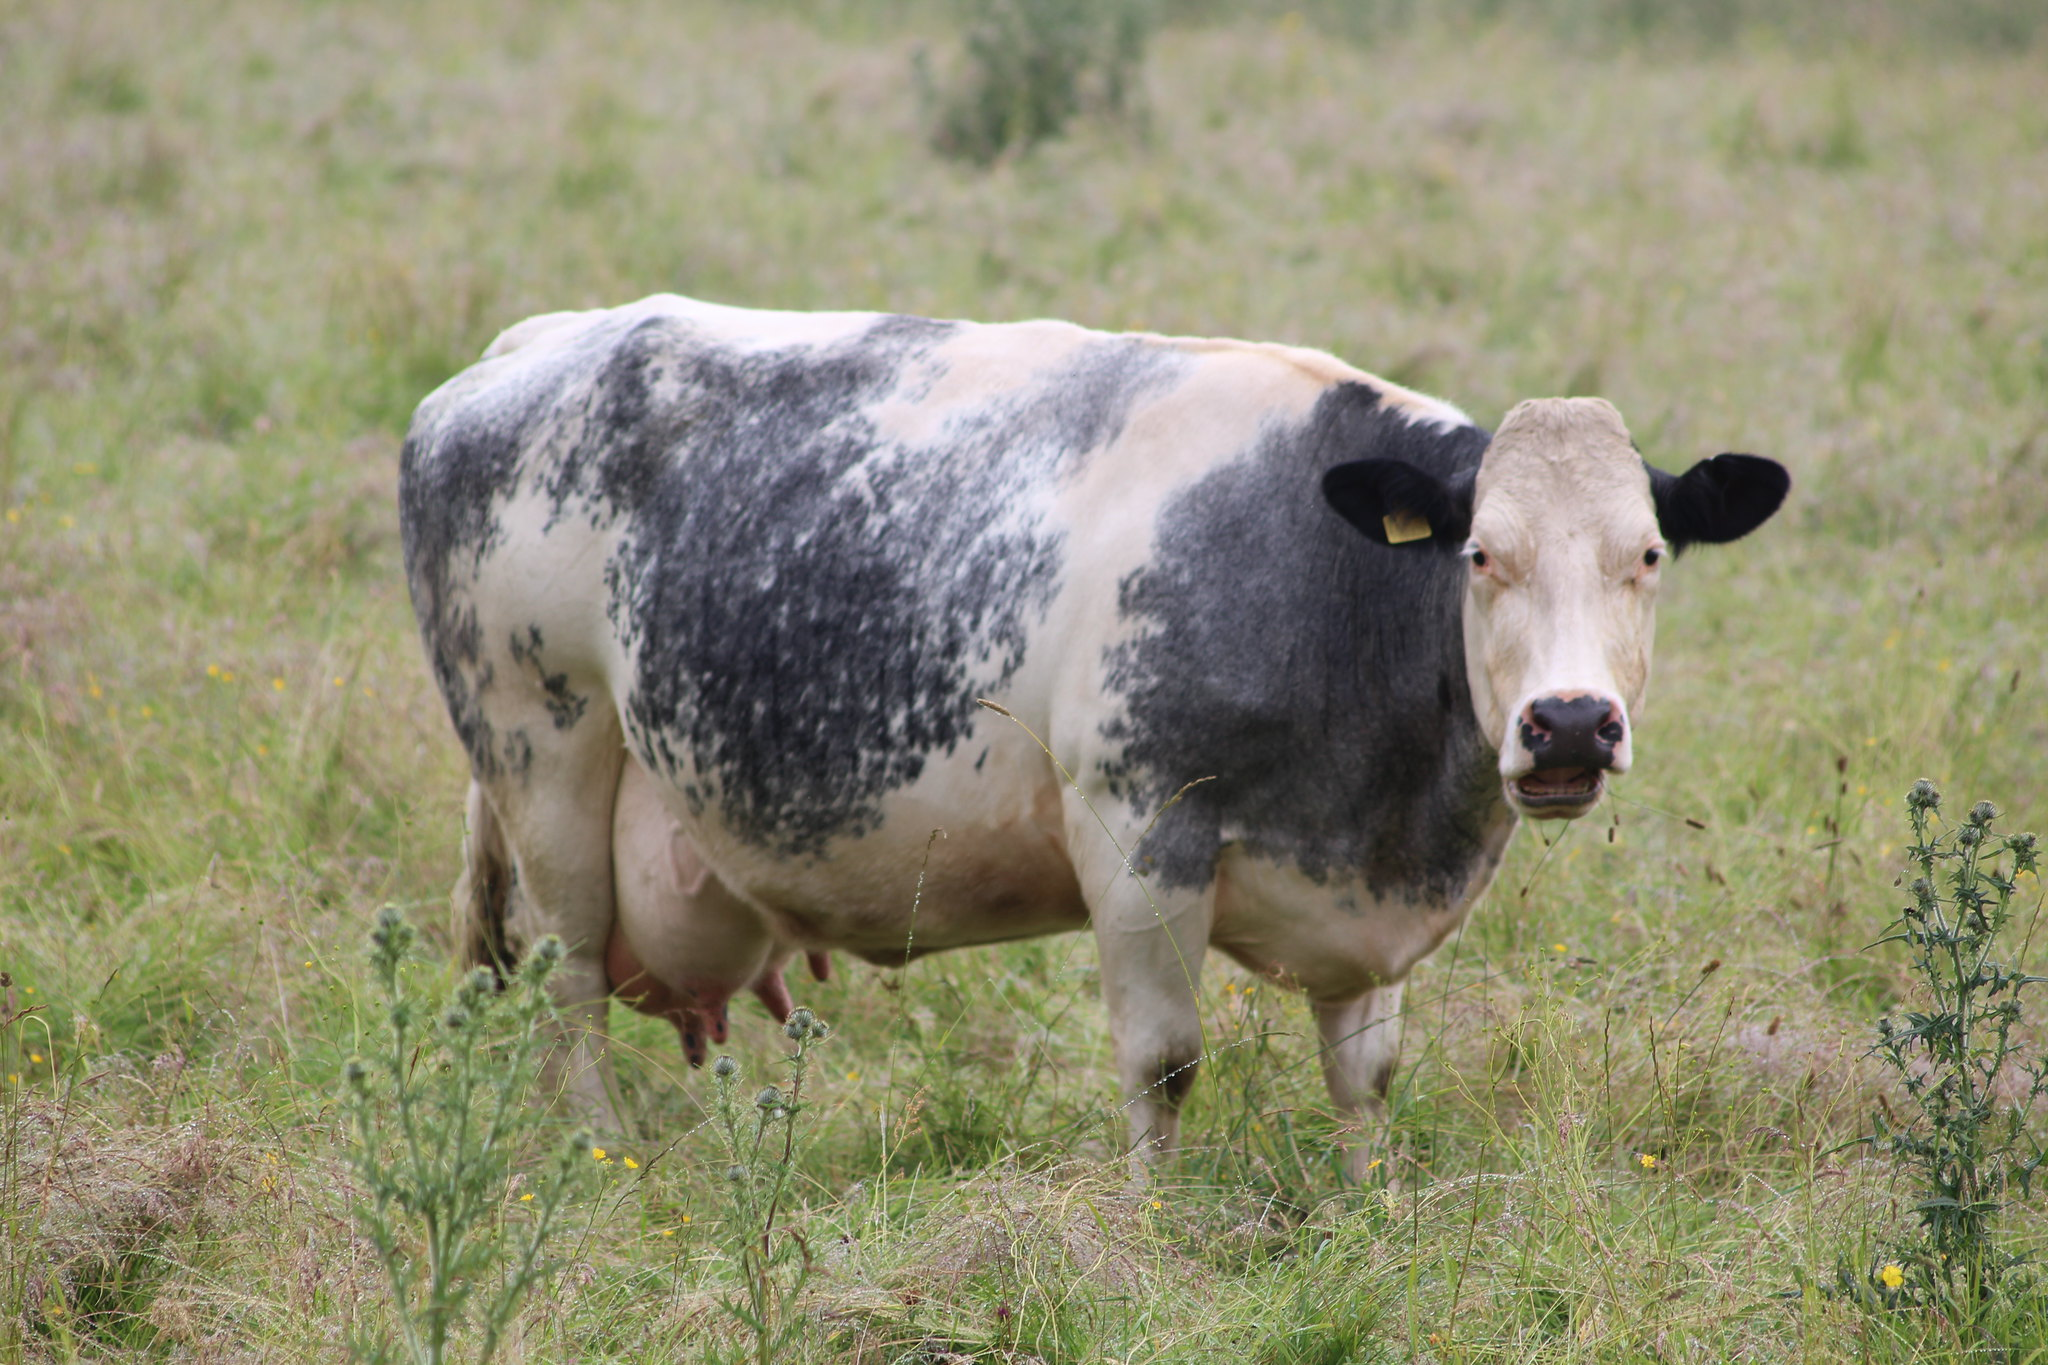cow: (391, 265, 1708, 1188)
